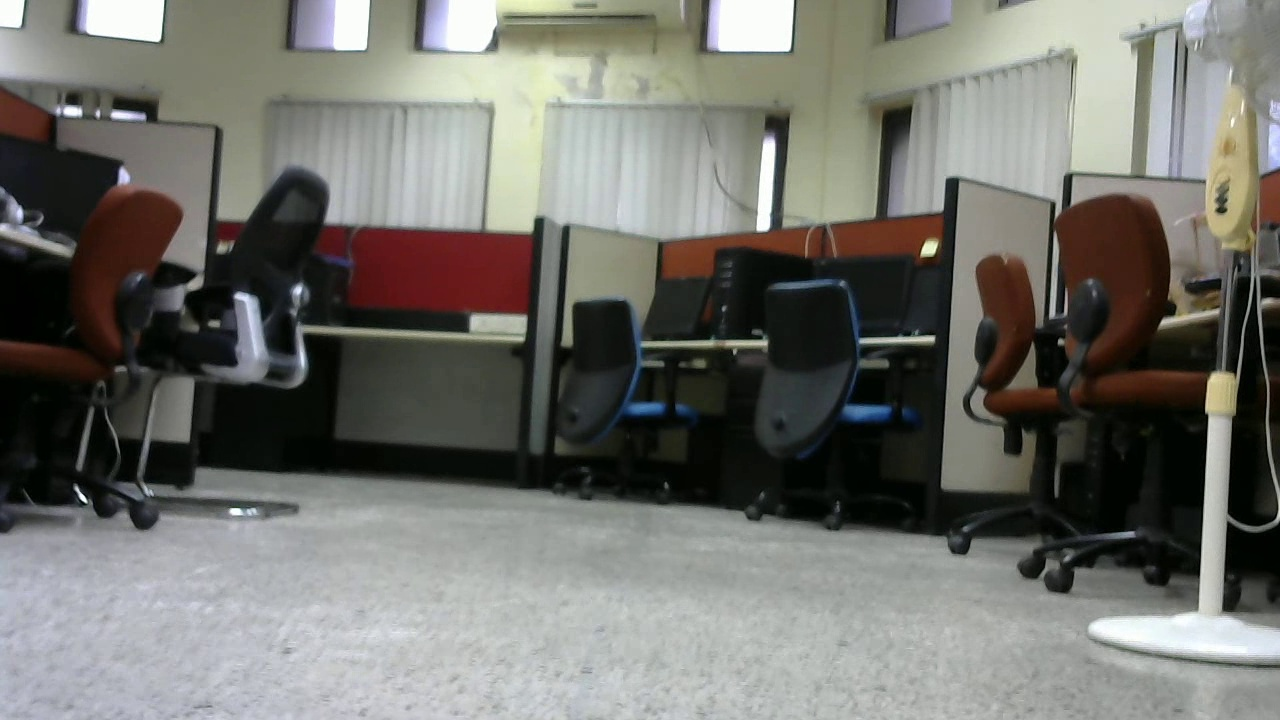chair: (1037, 194, 1231, 589), (179, 165, 335, 519), (10, 184, 171, 524), (720, 276, 925, 527), (951, 255, 1112, 560), (547, 292, 706, 495)
